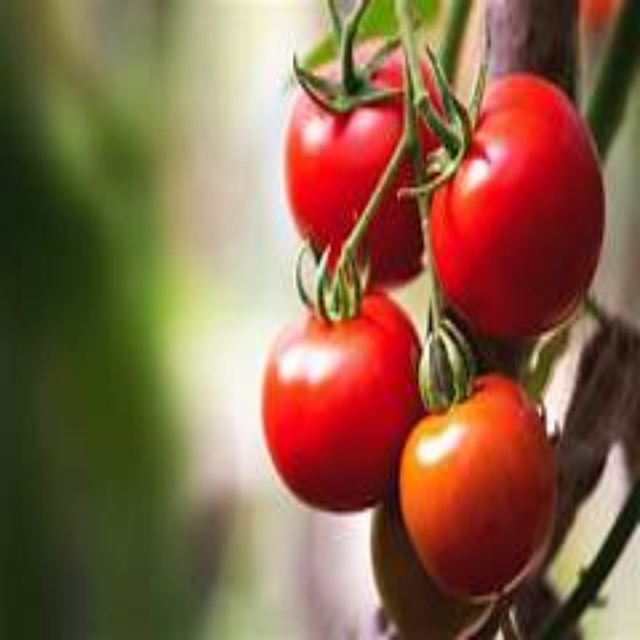tomato: (423, 89, 598, 329), (275, 46, 442, 284), (266, 310, 444, 525), (396, 383, 572, 598)
